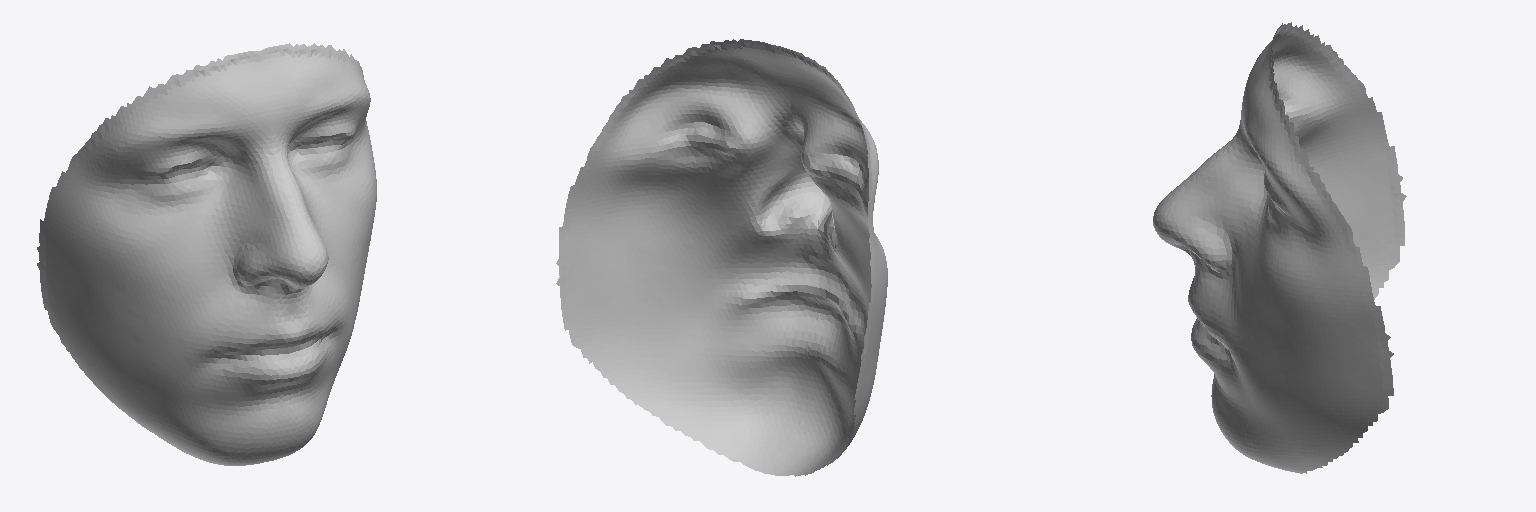
Rendered from SIMPOP_37.obj.
3 renders of one model, left to right at view 1: azimuth 30°, elevation 25°; view 2: azimuth 150°, elevation 25°; view 3: azimuth 270°, elevation 25°, orthographic.
Visible parts, largest first — view 1: SIMPOP_37; view 2: SIMPOP_37; view 3: SIMPOP_37.
Part boxes in pixels (left/top/right/bottom): SIMPOP_37: left=37, top=43, right=376, bottom=465; SIMPOP_37: left=556, top=39, right=887, bottom=476; SIMPOP_37: left=1153, top=22, right=1406, bottom=473.
Bounding box in the file's own units: 142 × 179 × 98.34.